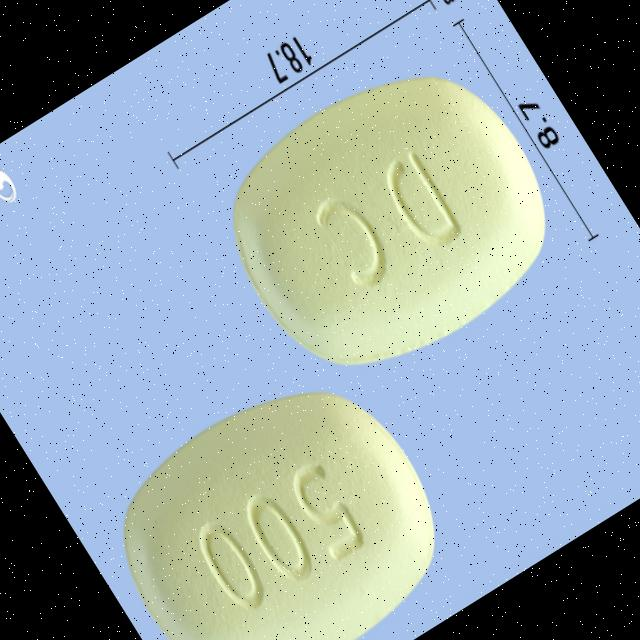Clavix: (183, 21, 590, 418), (76, 339, 481, 640)
